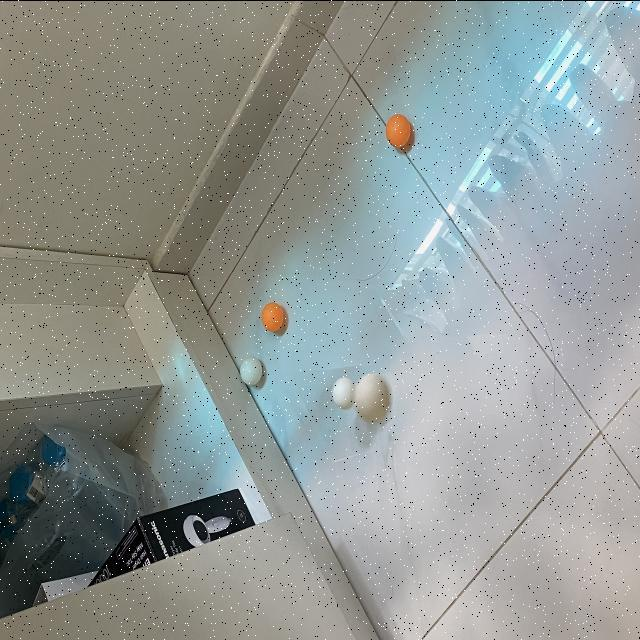ping-pong-ball: (354, 371, 389, 420), (331, 374, 357, 408), (386, 112, 412, 146), (240, 356, 264, 386), (262, 300, 284, 332)
